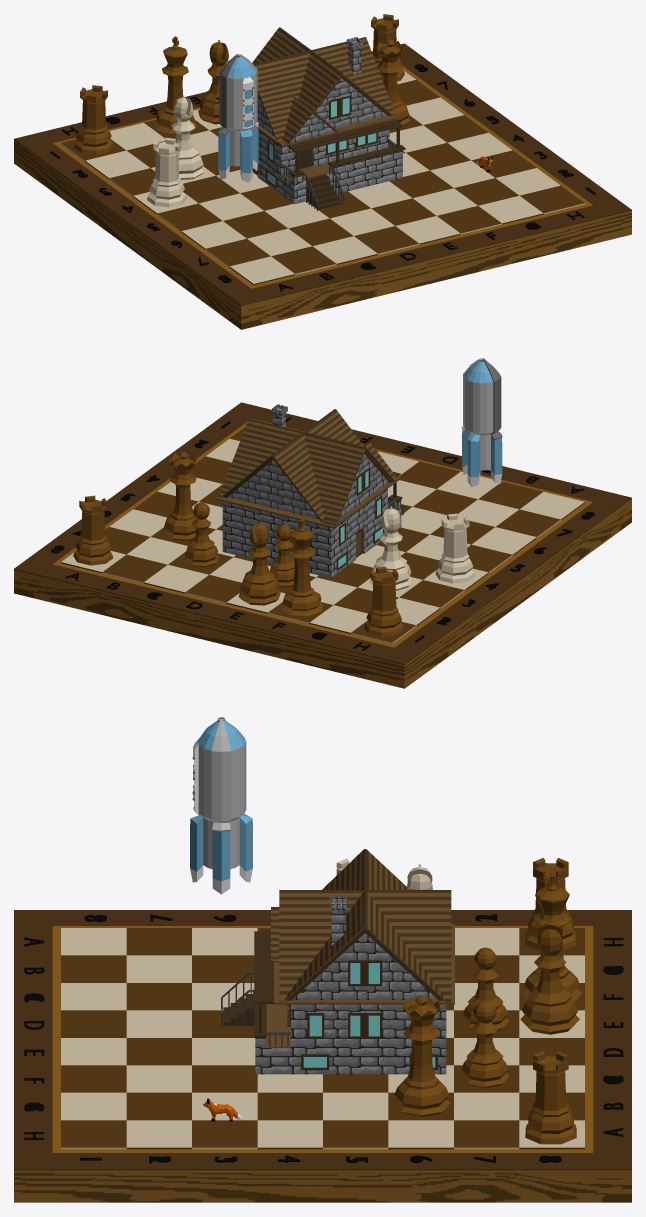
3 views of the same model, one above another, from view 1: azimuth 30°, elevation 25°; view 2: azimuth 150°, elevation 25°; view 3: azimuth 270°, elevation 25° (orthographic). The views are drawn at different scales.
Visible parts, largest first — view 1: Cube.002, Cube.586, OBJRANDOM_ROCKETSHIP; view 2: Cube.002, Cube.586, OBJRANDOM_ROCKETSHIP; view 3: Cube.002, Cube.586, OBJRANDOM_ROCKETSHIP.
Part boxes in pixels (box(x1,y1,x2,y2)): Cube.002: box(14, 14, 631, 329); Cube.586: box(215, 27, 405, 210); OBJRANDOM_ROCKETSHIP: box(218, 54, 258, 182); Cube.002: box(14, 402, 631, 688); Cube.586: box(214, 404, 403, 577); OBJRANDOM_ROCKETSHIP: box(461, 358, 502, 487); Cube.002: box(14, 858, 631, 1202); Cube.586: box(221, 849, 454, 1074); OBJRANDOM_ROCKETSHIP: box(190, 717, 252, 894).
Size of the model in its own units: 3981 by 2045 by 4012.
24 materials, 3 textured.
